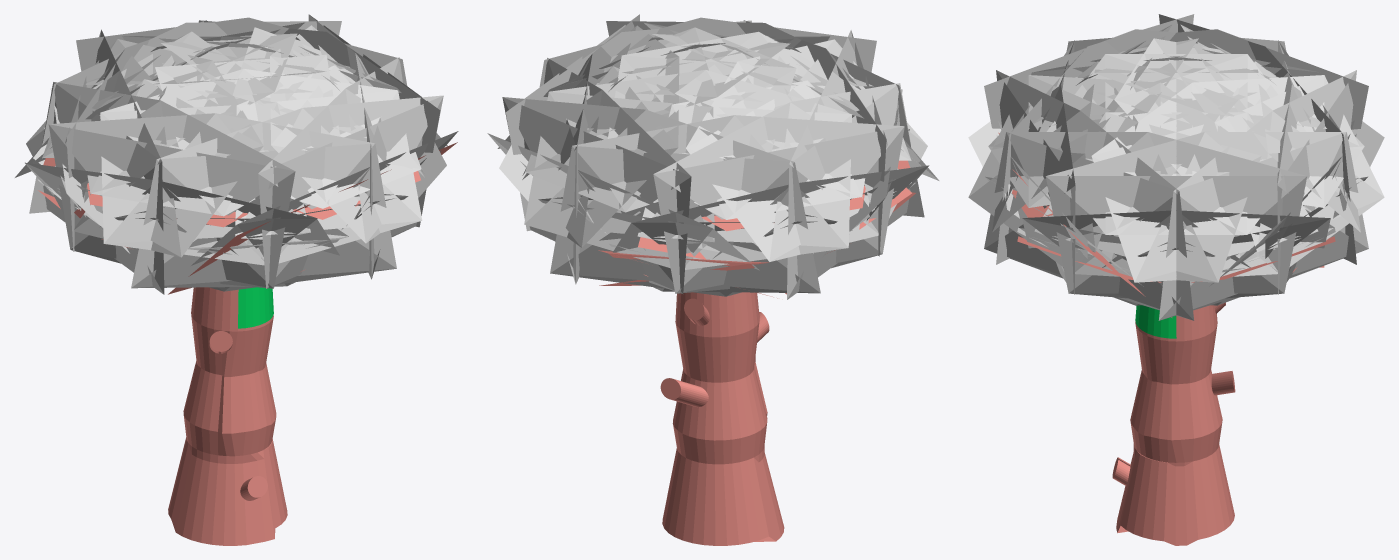
Rendered from OneTreeAnim.fbx.
3 renders of one model, left to right at view 1: azimuth 30°, elevation 25°; view 2: azimuth 150°, elevation 25°; view 3: azimuth 270°, elevation 25°, orthographic. The views are drawn at different scales.
Parts seen in each view (by area): view 1: Cylinder.001, Cylinder, Cylinder.002; view 2: Cylinder.001, Cylinder; view 3: Cylinder.001, Cylinder, Cylinder.002.
Boxes of the visible parts, box(x1,y1,x2,y2) form: Cylinder.001: box(15, 14, 458, 294); Cylinder: box(38, 142, 457, 545); Cylinder.002: box(238, 287, 273, 328); Cylinder.001: box(487, 14, 939, 299); Cylinder: box(598, 160, 915, 545); Cylinder.001: box(968, 14, 1384, 320); Cylinder: box(998, 132, 1335, 545); Cylinder.002: box(1135, 305, 1176, 338).
Bounding box in the file's own units: 1025 × 1191 × 976.
